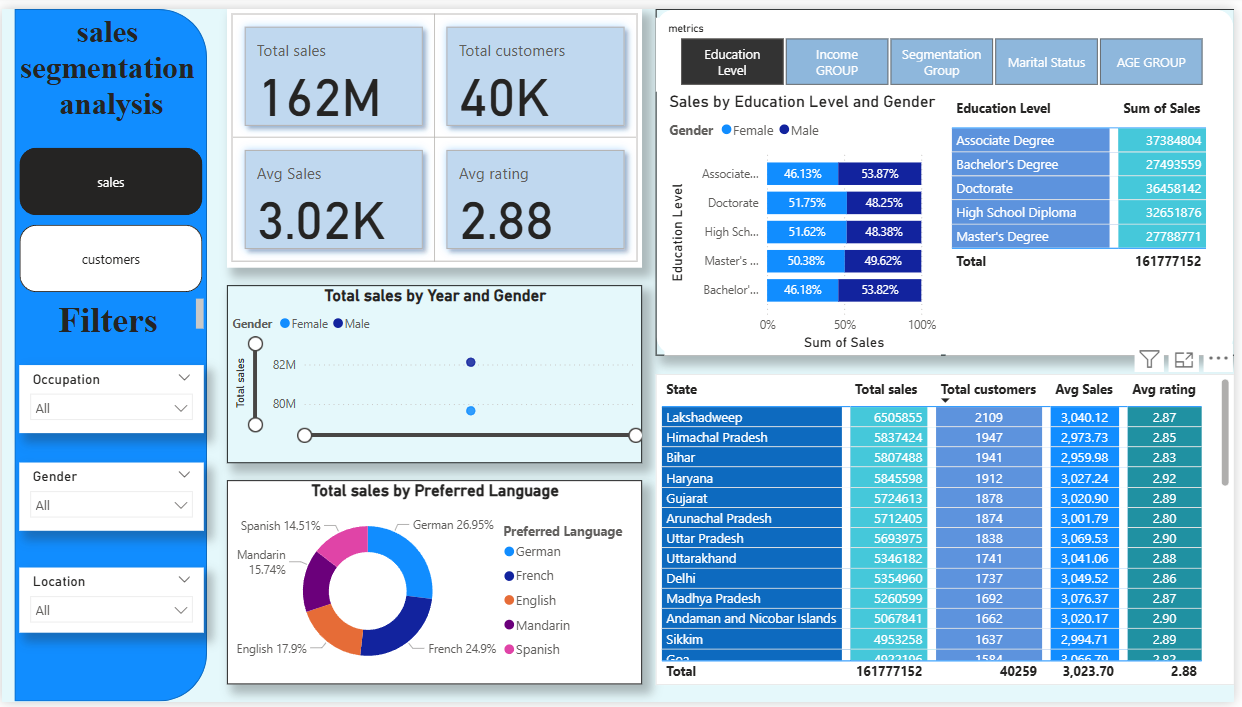

What the dashboard file says about the page in this screenshot:
{"tool":"powerbi","page":{"name":"sales ","canvas":[1280,720],"ordinal":0},"visuals":[{"type":"shape","box":[13,0,200,719.5],"z":0},{"type":"cardVisual","fields":{"Data":["All measures.Total sales","All measures.Total customers","All measures.Avg Sales","All measures.Avg rating"]},"box":[233.8,0,431.2,268.8],"z":1000},{"type":"scatterChart","fields":{"Y":["All measures.Total sales"],"Series":["CustomerData.Gender"],"Category":["Date table.Date.Variation.Date Hierarchy.Year","Date table.Date.Variation.Date Hierarchy.Quarter","Date table.Date.Variation.Date Hierarchy.Month","Date table.Date.Variation.Date Hierarchy.Day"]},"box":[233.8,287,431.2,184.4],"z":2000},{"type":"donutChart","fields":{"Y":["All measures.Total sales"],"Category":["CustomerData.Preferred Language"]},"box":[233.8,489.6,431.2,211.7],"z":3000},{"type":"shape","box":[679.2,0,601.3,359.7],"z":4000},{"type":"slicer","fields":{"Values":["metrics .metrics "]},"box":[679.2,9.1,592.2,76.6],"z":5000},{"type":"hundredPercentStackedBarChart","title":"Sales by Education Level and Gender","fields":{"Category":["CustomerData.Education Level"],"Y":["Sum(CustomerData.Sales)"],"Series":["CustomerData.Gender"]},"box":[688.3,85.7,287,274],"z":6000},{"type":"tableEx","fields":{"Values":["CustomerData.Education Level","Sum(CustomerData.Sales)"]},"box":[980.5,85.7,296.1,274],"z":7000},{"type":"tableEx","fields":{"Values":["CustomerData.Geographic Information","All measures.Total sales","All measures.Total customers","All measures.Avg Sales","All measures.Avg rating"]},"box":[679.2,379.2,601.3,323.4],"z":8000},{"type":"textbox","box":[10.4,0,206.5,135.1],"z":9000},{"type":"textbox","box":[14.3,296.1,200,46.8],"z":10000},{"type":"slicer","fields":{"Values":["CustomerData.Occupation"]},"box":[18.2,370.1,190.9,70.1],"z":11000},{"type":"slicer","fields":{"Values":["CustomerData.Geographic Information"]},"box":[18.2,580.5,190.9,67.5],"z":12000},{"type":"slicer","fields":{"Values":["CustomerData.Gender"]},"box":[18.2,471.4,190.9,70.1],"z":13000},{"type":"pageNavigator","box":[18.2,144.2,190.9,151.9],"z":14000}]}

Visuals, with their boxes in screenshot pixels (x1, y1, x2, y2), scaled from the page's 1280x720 canvas onto the 1242x707 screenshot:
shape: select_region(13, 0, 207, 706)
cardVisual - All measures.Total sales x All measures.Total customers: select_region(227, 0, 645, 264)
scatterChart - All measures.Total sales x CustomerData.Gender: select_region(227, 282, 645, 463)
donutChart - All measures.Total sales x CustomerData.Preferred Language: select_region(227, 481, 645, 689)
shape: select_region(659, 0, 1241, 353)
slicer - metrics .metrics : select_region(659, 9, 1234, 84)
"Sales by Education Level and Gender" hundredPercentStackedBarChart: select_region(668, 84, 946, 353)
tableEx - CustomerData.Education Level x Sum(CustomerData.Sales): select_region(951, 84, 1239, 353)
tableEx - CustomerData.Geographic Information x All measures.Total sales: select_region(659, 372, 1241, 690)
textbox: select_region(10, 0, 210, 133)
textbox: select_region(14, 291, 208, 337)
slicer - CustomerData.Occupation: select_region(18, 363, 203, 432)
slicer - CustomerData.Geographic Information: select_region(18, 570, 203, 636)
slicer - CustomerData.Gender: select_region(18, 463, 203, 532)
pageNavigator: select_region(18, 142, 203, 291)
